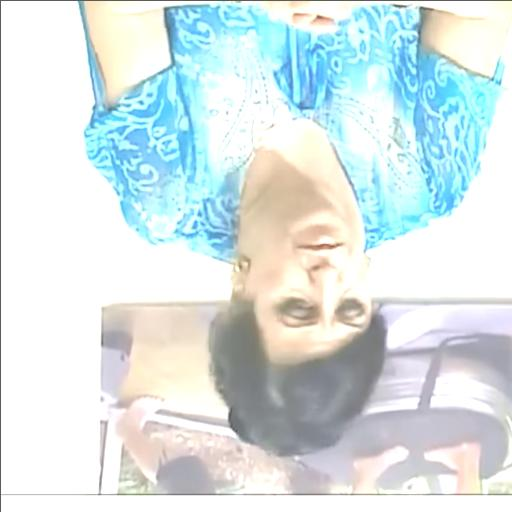jannet: (238, 202, 371, 363)
